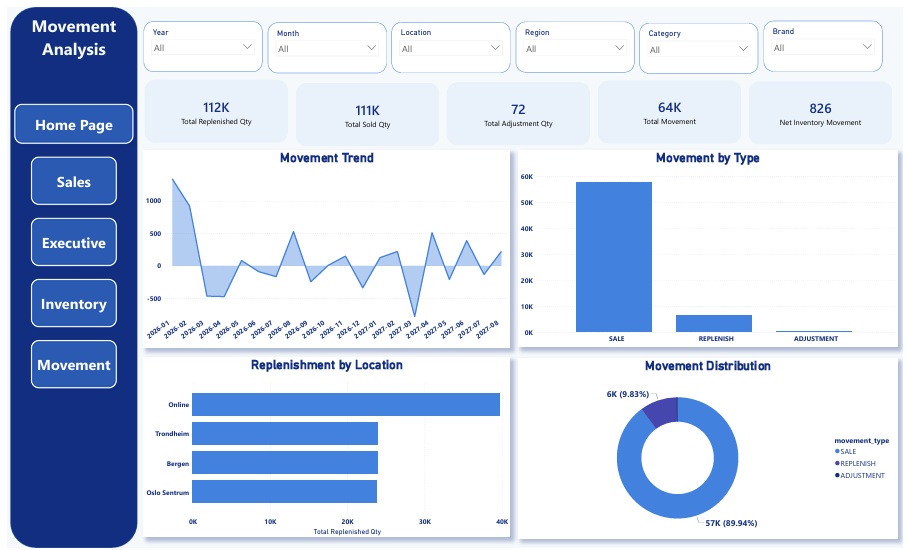

This screenshot's page, from the dashboard's own definition file:
{"tool":"powerbi","page":{"name":"Movement Analysis ","canvas":[2150,1300],"ordinal":4},"visuals":[{"type":"shape","box":[7.5,0,305,1300],"z":0},{"type":"group","id":"g1","title":"Group 1","box":[327.5,32.5,1772.5,127],"z":5000},{"type":"slicer","fields":{"Values":["location_master.region"]},"box":[1220,34.6,285,122],"z":5000,"group":"g1"},{"type":"slicer","fields":{"Values":["location_master.location_type"]},"box":[922.5,35.4,285,122],"z":6000,"group":"g1"},{"type":"group","id":"g2","title":"Group 2","box":[314,158,1828,194],"z":6000},{"type":"slicer","fields":{"Values":["product_master.category"]},"box":[1517.5,37.5,285,122],"z":7000,"group":"g1"},{"type":"actionButton","box":[7.5,222.5,305,115],"z":7000,"group":"g3"},{"type":"clusteredColumnChart","title":"Movement by Type","fields":{"Category":["inventory_movements.movement_type"],"Y":["Measures_Table.Total Movement Count"]},"box":[1227.5,345,910,472.5],"z":7000},{"type":"slicer","fields":{"Values":["product_master.brand"]},"box":[1815,32.5,285,122],"z":8000,"group":"g1"},{"type":"actionButton","box":[47.5,349.4,225,135],"z":8000,"group":"g3"},{"type":"clusteredBarChart","title":"Replenishment by Location","fields":{"Category":["location_master.location_name"],"Y":["Measures_Table.Total Replenished Qty"]},"box":[327.5,842.5,880,432.5],"z":8000},{"type":"slicer","fields":{"Values":["dim_date.Date.Variation.Date Hierarchy.Year"]},"box":[327.5,33.3,285,122.5],"z":9000,"group":"g1"},{"type":"actionButton","box":[47.5,643.1,225,135],"z":9000,"group":"g3"},{"type":"donutChart","title":"Movement Distribution","fields":{"Category":["inventory_movements.movement_type"],"Y":["Measures_Table.Total Movement Count"]},"box":[1227.5,845,910,432.5],"z":9000},{"type":"slicer","fields":{"Values":["dim_date.Date.Variation.Date Hierarchy.Month"]},"box":[625,36.2,285,122.5],"z":10000,"group":"g1"},{"type":"areaChart","title":"Movement Trend","fields":{"Category":["dim_date.Year-Month"],"Y":["Measures_Table.Net Inventory Movement"]},"box":[327.5,345,880,475],"z":10000},{"type":"actionButton","box":[47.5,790,225,135],"z":10000,"group":"g3"},{"type":"group","id":"g3","title":"Group 3","box":[7.5,222.5,305,702.5],"z":10001},{"type":"cardVisual","fields":{"Data":["Measures_Table.Total Replenished Qty"]},"box":[314,158,377.5,185],"z":11000,"group":"g2"},{"type":"actionButton","box":[47.5,496.3,225,135],"z":11000,"group":"g3"},{"type":"cardVisual","fields":{"Data":["Measures_Table.Total Sold Qty"]},"box":[676.9,166,377,185],"z":12000,"group":"g2"},{"type":"cardVisual","fields":{"Data":["Measures_Table.Total Adjustment Qty"]},"box":[1039.2,164,377,185],"z":13000,"group":"g2"},{"type":"cardVisual","fields":{"Data":["Measures_Table.Total Movement"]},"box":[1401.6,160,377,185],"z":14000,"group":"g2"},{"type":"cardVisual","fields":{"Data":["Measures_Table.Net Movement"]},"box":[1764,162,377,185],"z":15000,"group":"g2"}]}

Visuals, with their boxes in screenshot pixels (x1, y1, x2, y2), scaled from the page's 2150x1300 canvas onto the 907x550 screenshot:
shape: BBox(3, 0, 132, 549)
"Group 1" group: BBox(138, 14, 886, 67)
slicer - location_master.region: BBox(515, 15, 635, 66)
slicer - location_master.location_type: BBox(389, 15, 509, 67)
"Group 2" group: BBox(132, 67, 904, 149)
slicer - product_master.category: BBox(640, 16, 760, 67)
actionButton: BBox(3, 94, 132, 143)
"Movement by Type" clusteredColumnChart: BBox(518, 146, 902, 346)
slicer - product_master.brand: BBox(766, 14, 886, 65)
actionButton: BBox(20, 148, 115, 205)
"Replenishment by Location" clusteredBarChart: BBox(138, 356, 509, 539)
slicer - dim_date.Date.Variation.Date Hierarchy.Year: BBox(138, 14, 258, 66)
actionButton: BBox(20, 272, 115, 329)
"Movement Distribution" donutChart: BBox(518, 358, 902, 540)
slicer - dim_date.Date.Variation.Date Hierarchy.Month: BBox(264, 15, 384, 67)
"Movement Trend" areaChart: BBox(138, 146, 509, 347)
actionButton: BBox(20, 334, 115, 391)
"Group 3" group: BBox(3, 94, 132, 391)
cardVisual - Measures_Table.Total Replenished Qty: BBox(132, 67, 292, 145)
actionButton: BBox(20, 210, 115, 267)
cardVisual - Measures_Table.Total Sold Qty: BBox(286, 70, 445, 148)
cardVisual - Measures_Table.Total Adjustment Qty: BBox(438, 69, 597, 148)
cardVisual - Measures_Table.Total Movement: BBox(591, 68, 750, 146)
cardVisual - Measures_Table.Net Movement: BBox(744, 69, 903, 147)
